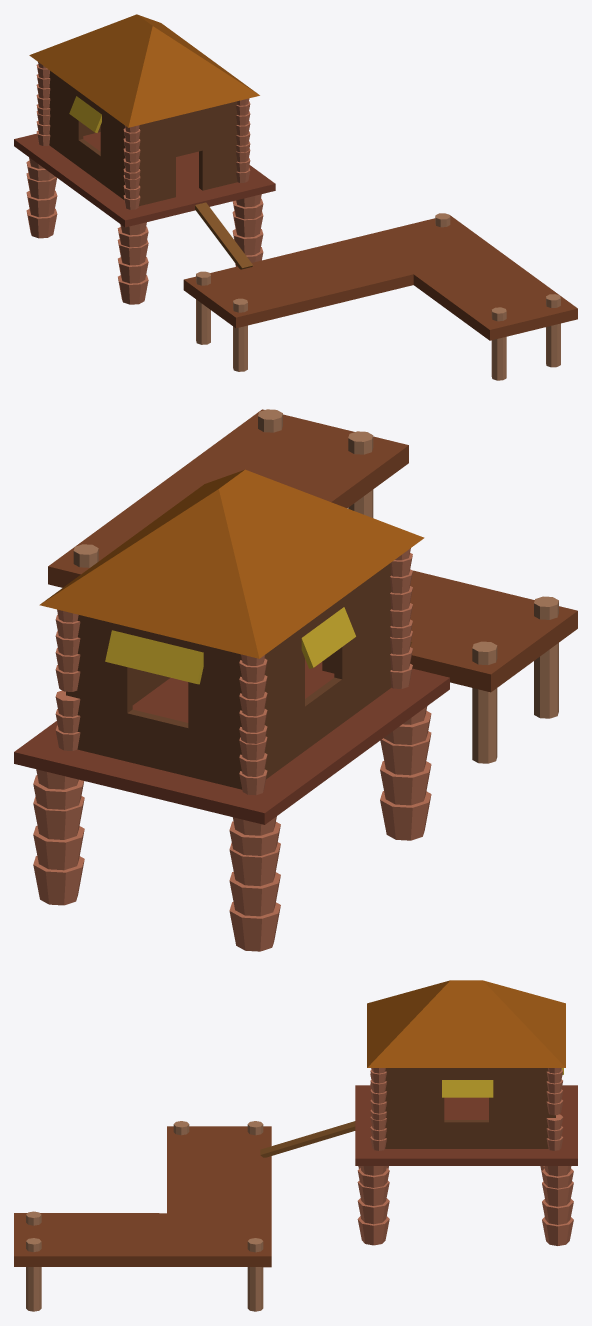
Rendered from Building.fbx.
3 views of the same model, one above another, from view 1: azimuth 30°, elevation 25°; view 2: azimuth 150°, elevation 25°; view 3: azimuth 270°, elevation 25° (orthographic). The views are drawn at different scales.
Visible parts, largest first — view 1: Dock, Roof, House, Floor, Cube.009, Cylinder.055, Cylinder.059, Cylinder.056, Cylinder.058, Cube.008, Cylinder.039, Cylinder.050 (+6 smaller); view 2: Roof, House, Dock, Floor, Cube.006, Cylinder.058, Cylinder.059, Cube.008, Cylinder.039, Cylinder.050, Cylinder.049, Cylinder.048 (+9 smaller); view 3: Dock, Roof, House, Floor, Cube.009, Cylinder.057, Cube.007, Cylinder.056, Cylinder.040, Cylinder.049, Cylinder.048, Cylinder.041 (+2 smaller).
Boxes of the visible parts, x1,y1,x2,y2 form: Dock: [183, 215, 577, 340]; Roof: [29, 14, 259, 127]; House: [49, 71, 237, 206]; Floor: [14, 132, 275, 227]; Cube.009: [195, 202, 253, 269]; Cylinder.055: [491, 307, 506, 380]; Cylinder.059: [233, 298, 247, 371]; Cylinder.056: [546, 294, 560, 367]; Cylinder.058: [196, 271, 210, 344]; Cube.008: [69, 96, 101, 132]; Cylinder.039: [118, 275, 148, 304]; Cylinder.050: [26, 208, 57, 238]; Roof: [39, 469, 424, 658]; House: [66, 563, 391, 789]; Dock: [48, 409, 577, 692]; Floor: [14, 659, 449, 824]; Cube.006: [105, 630, 203, 684]; Cylinder.058: [472, 641, 497, 763]; Cylinder.059: [534, 596, 558, 718]; Cube.008: [301, 607, 355, 668]; Cylinder.039: [380, 791, 431, 840]; Cylinder.050: [229, 902, 280, 951]; Cylinder.049: [33, 856, 84, 905]; Cylinder.048: [33, 825, 84, 870]; Dock: [14, 1126, 271, 1267]; Roof: [367, 980, 565, 1067]; House: [385, 1068, 555, 1148]; Floor: [355, 1085, 577, 1165]; Cube.009: [260, 1121, 355, 1157]; Cylinder.057: [247, 1238, 263, 1311]; Cube.007: [442, 1080, 493, 1097]; Cylinder.056: [26, 1238, 41, 1311]; Cylinder.040: [357, 1216, 389, 1245]; Cylinder.049: [542, 1217, 573, 1245]; Cylinder.048: [542, 1199, 573, 1224]; Cylinder.041: [357, 1198, 389, 1224].
Size of the model in its own units: 2568 by 2024 by 4423.
